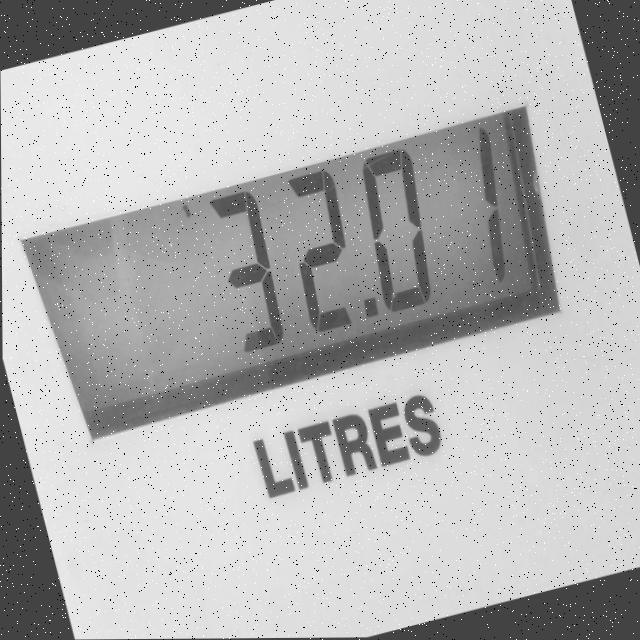.: (346, 282, 392, 348)
0: (335, 140, 462, 336)
1: (445, 112, 555, 325)
2: (266, 166, 370, 342)
3: (208, 191, 299, 359)
